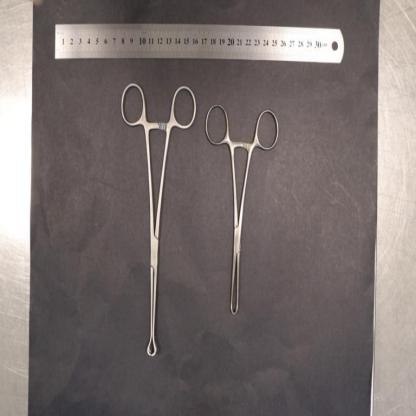8 Babcock Tissue Forceps: (121, 80, 198, 360)
Allis Tissue Forceps: (204, 102, 282, 317)
